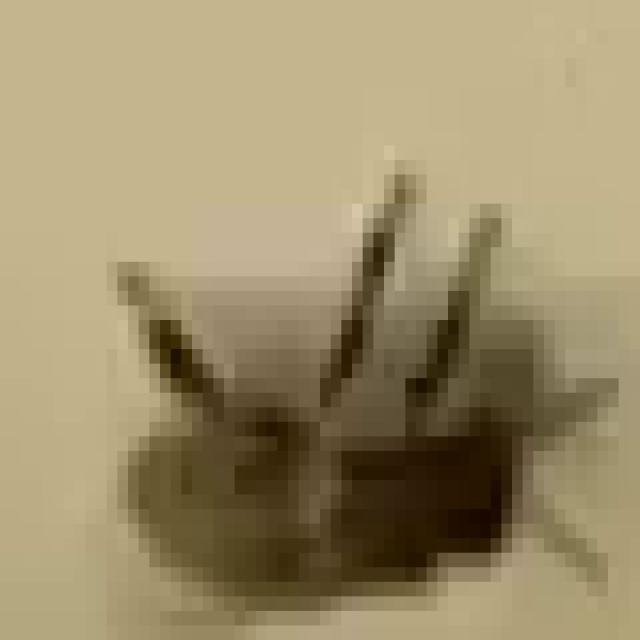honeybee: (64, 164, 621, 601)
